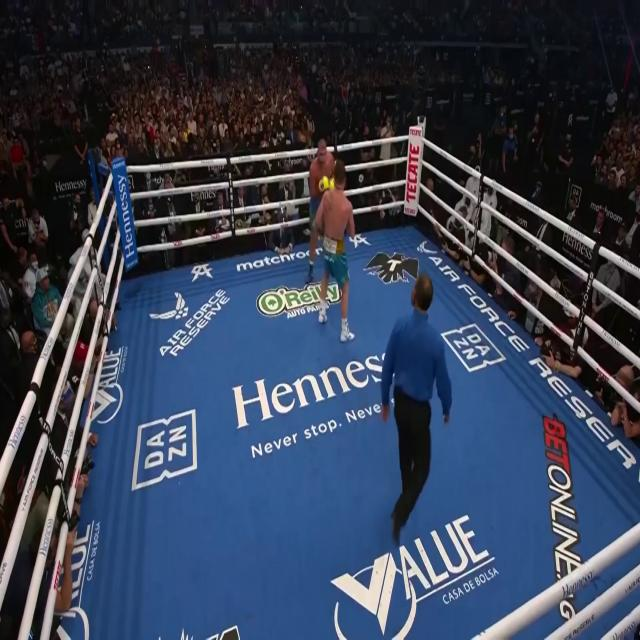boxer_1: (311, 138, 332, 196)
boxer_2: (324, 161, 351, 240)
gloves_1: (319, 176, 329, 190), (328, 179, 336, 190)
